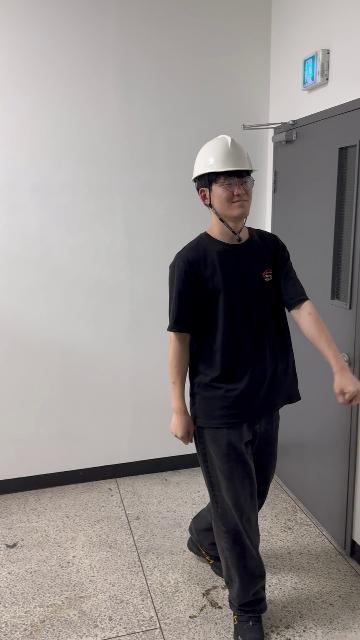helmet_worn: (191, 133, 259, 183)
shoe_worn: (189, 535, 223, 580), (233, 613, 264, 640)
vest_not_worn: (181, 234, 295, 411)
